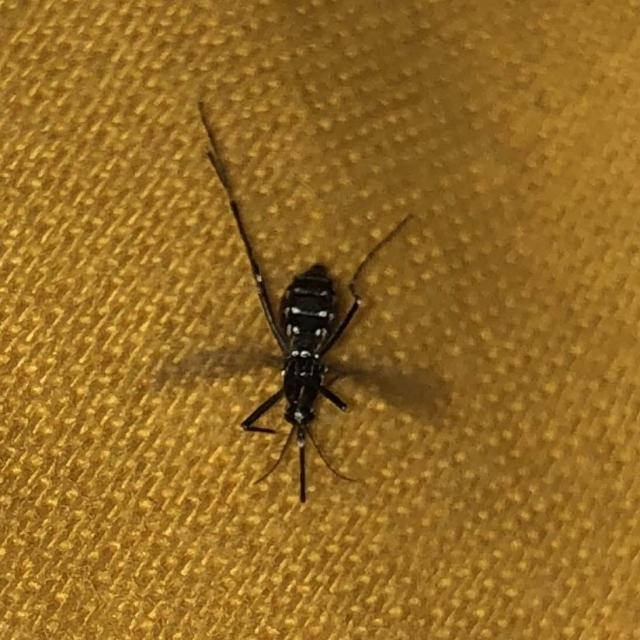albopictus: (181, 88, 426, 498)
